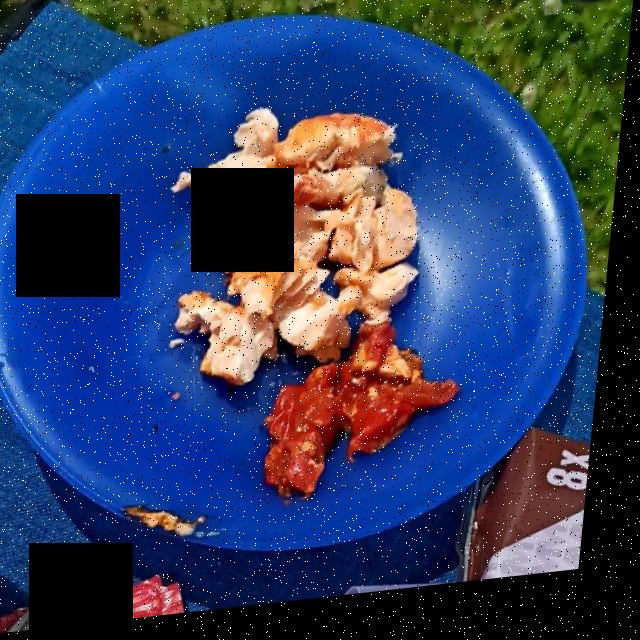salmon: (174, 119, 420, 378)
